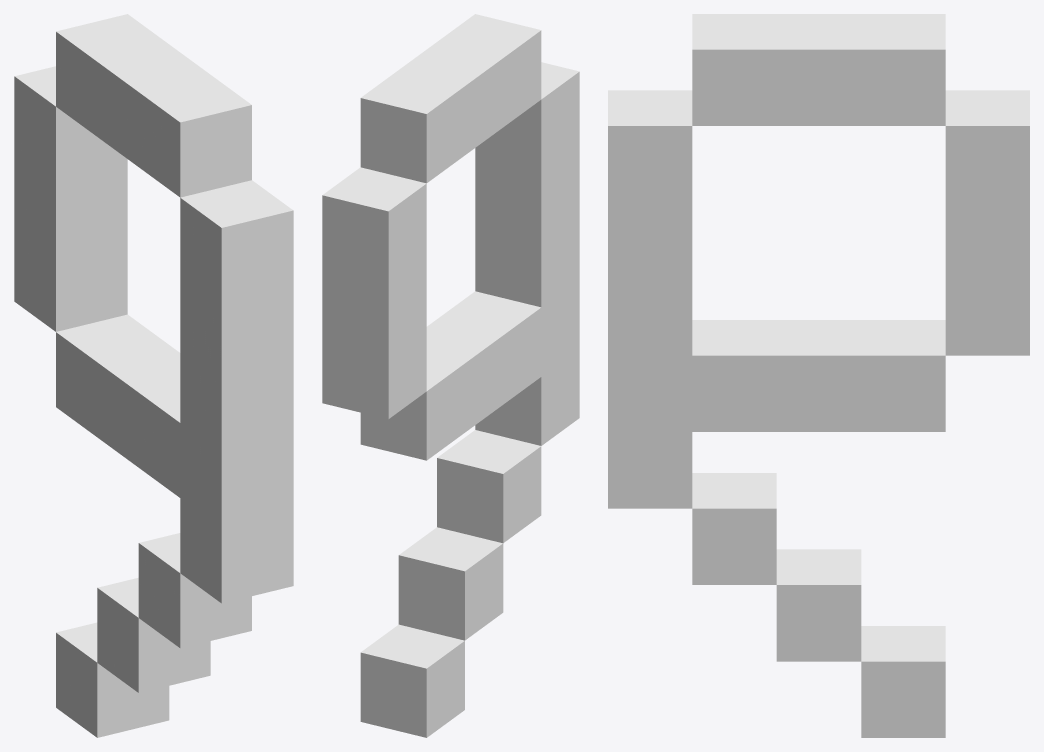
File: dig_9.obj
The picture shows the model from 3 angles, left to right: view 1: azimuth 30°, elevation 25°; view 2: azimuth 150°, elevation 25°; view 3: azimuth 270°, elevation 25°; orthographic projection. The views are drawn at different scales.
Size of the model in its own units: 0.1 by 0.9 by 0.5.
1 material, 1 textured.
